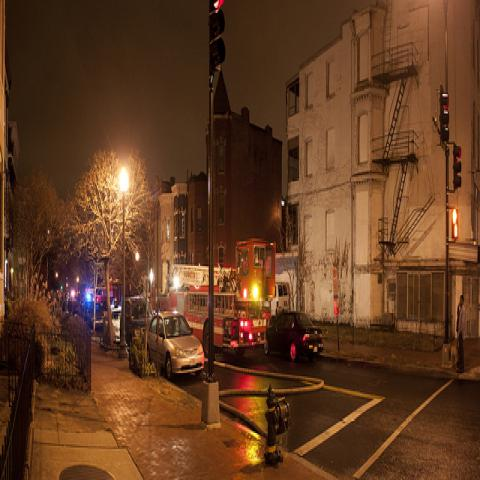car: (147, 311, 204, 383), (266, 310, 322, 361), (120, 295, 146, 357), (104, 310, 122, 345), (271, 282, 288, 311), (79, 301, 94, 323), (89, 310, 104, 330), (68, 297, 78, 315)
truck: (158, 238, 277, 360)
